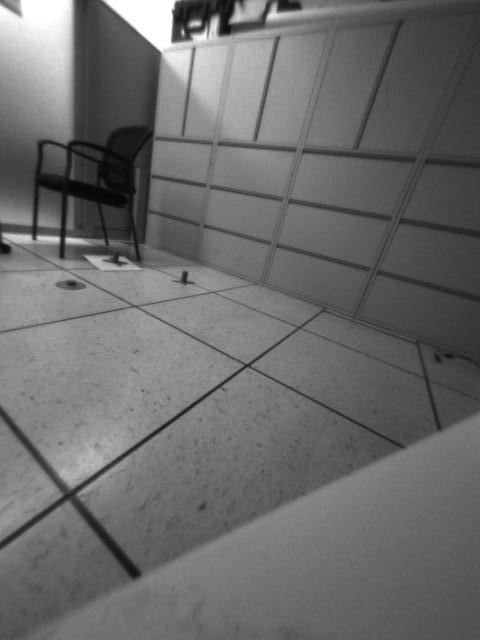X: (100, 247, 130, 269), (171, 268, 193, 285)
